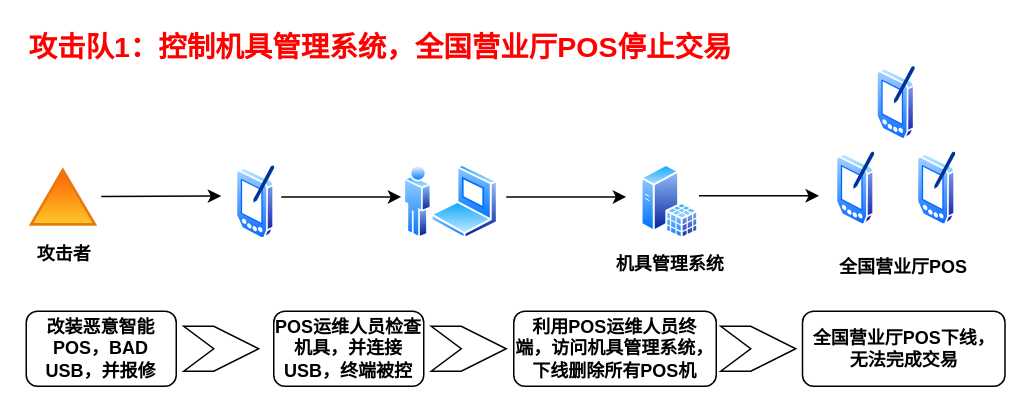
Some shapes in this 1032 by 413 pixel diagram are drawn without their labels. Here are the shapes that lost their labels. From the top down, the centre of each, then its label:
point (256, 201): 智能POS
point (464, 201): POS运维人员终端
